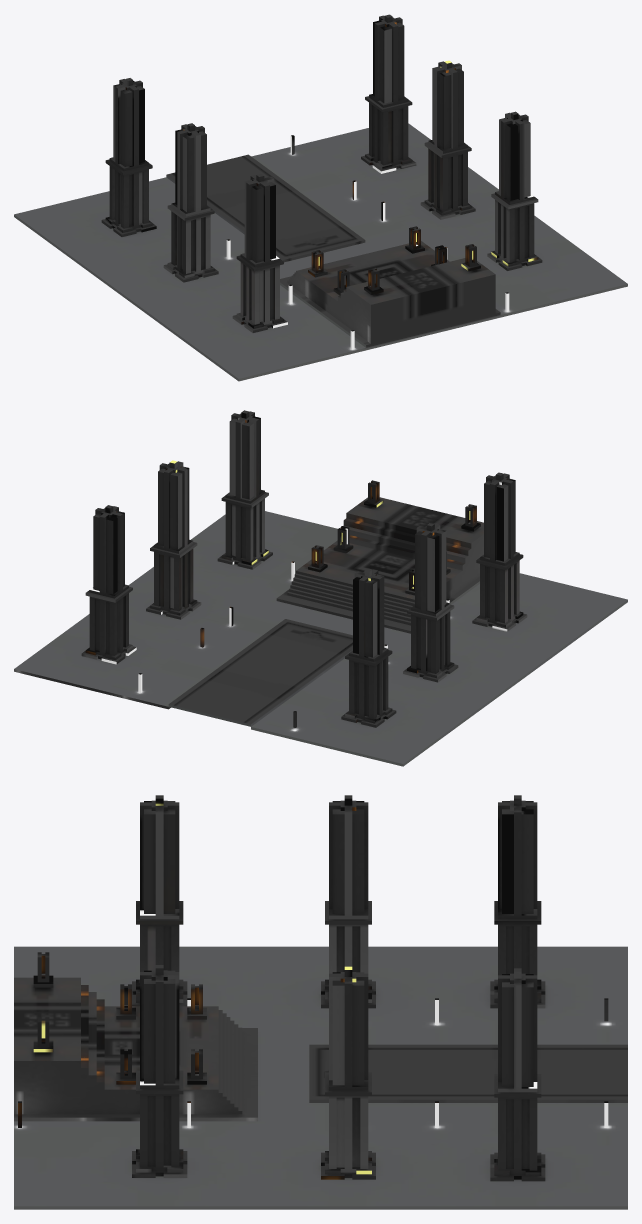
Rendered from map1-new.glb.
3 views of the same model, one above another, from view 1: azimuth 30°, elevation 25°; view 2: azimuth 150°, elevation 25°; view 3: azimuth 270°, elevation 25° (orthographic). The views are drawn at different scales.
Parts seen in each view (by area): view 1: test1_level; view 2: test1_level; view 3: test1_level.
Boxes of the visible parts, <box> form: test1_level: <box>14,14,627,381</box>; test1_level: <box>14,410,627,766</box>; test1_level: <box>14,795,627,1209</box>.
Bounding box in the file's own units: 156 × 57 × 156.
Materials: 8 (8 with a texture image).
